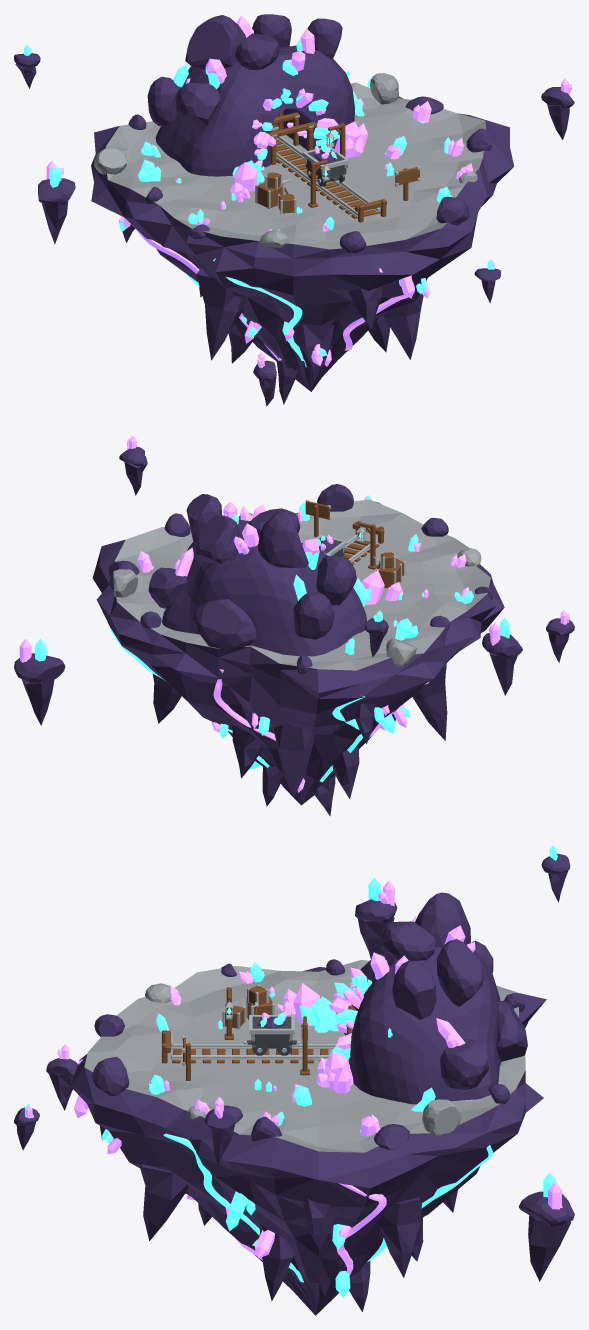
File: crystal-cave-island.glb
The picture shows the model from 3 angles, top to bottom: view 1: azimuth 30°, elevation 25°; view 2: azimuth 150°, elevation 25°; view 3: azimuth 270°, elevation 25°; orthographic projection. The views are drawn at different scales.
Visible parts, largest first — view 1: Island_Body, Mound, Island_Crags, Crystals_Purple, Crystals_Blue, Track, Rock_Crown_1, Rock_Crown_4, FloatRock_1, Rock_Crown_8, Rock_Crown_6, Crates_Pickaxe (+11 smaller); view 2: Island_Body, Mound, Island_Crags, Crystals_Purple, Crystals_Blue, Rock_Crown_5, Rock_Crown_1, FloatRock_3, Rock_Crown_2, Rock_Crown_8, Rock_Crown_4, FloatRock_1 (+10 smaller); view 3: Island_Body, Mound, Island_Crags, Crystals_Purple, Crystals_Blue, FloatRock_3, Track, Rock_Crown_2, Rock_Crown_3, Rock_Crown_7, Rock_Crown_1, Rock_Crown_6 (+12 smaller).
Part boxes in pixels (x1,y1,x2,y2): Island_Body: [91, 82, 514, 391]; Mound: [155, 45, 354, 176]; Island_Crags: [122, 224, 423, 404]; Crystals_Purple: [119, 15, 472, 366]; Crystals_Blue: [91, 40, 452, 367]; Track: [276, 136, 386, 222]; Rock_Crown_1: [185, 15, 246, 69]; Rock_Crown_4: [176, 83, 220, 127]; FloatRock_1: [38, 178, 75, 244]; Rock_Crown_8: [147, 76, 180, 126]; Rock_Crown_6: [235, 33, 279, 70]; Crates_Pickaxe: [255, 171, 296, 213]; Island_Body: [92, 499, 504, 805]; Mound: [162, 520, 366, 676]; Island_Crags: [152, 663, 447, 816]; Crystals_Purple: [137, 502, 469, 792]; Crystals_Blue: [110, 502, 473, 785]; Rock_Crown_5: [192, 599, 256, 650]; Rock_Crown_1: [258, 510, 308, 567]; FloatRock_3: [14, 653, 65, 725]; Rock_Crown_2: [196, 515, 239, 563]; Rock_Crown_8: [293, 592, 334, 639]; Rock_Crown_4: [316, 555, 356, 605]; FloatRock_1: [482, 633, 522, 695]; Island_Body: [71, 960, 546, 1315]; Mound: [344, 947, 501, 1104]; Island_Crags: [100, 1126, 457, 1311]; Crystals_Purple: [74, 916, 475, 1279]; Crystals_Blue: [102, 942, 492, 1297]; FloatRock_3: [518, 1191, 574, 1281]; Track: [162, 1030, 348, 1063]; Rock_Crown_2: [436, 939, 483, 1006]; Rock_Crown_3: [392, 960, 436, 1019]; Rock_Crown_7: [440, 1039, 488, 1089]; Rock_Crown_1: [415, 892, 470, 946]; Rock_Crown_6: [382, 921, 435, 960].
Bounding box in the file's own units: 66.26 × 47.37 × 59.14.
